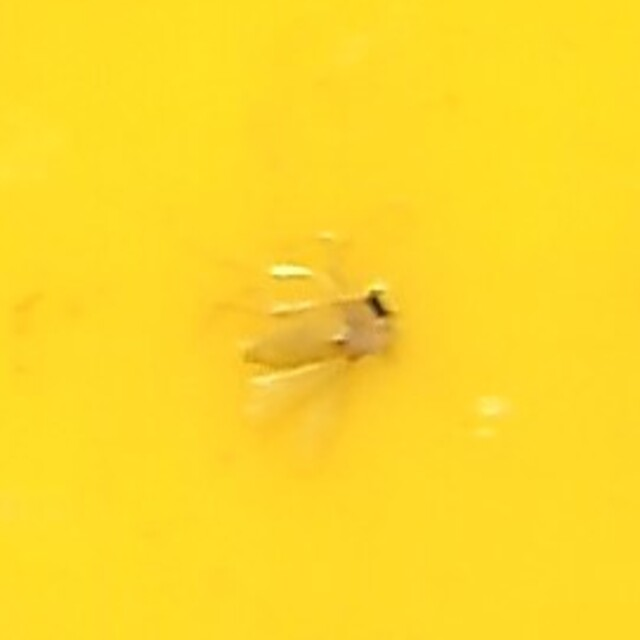Nematocera: (236, 259, 404, 381)
